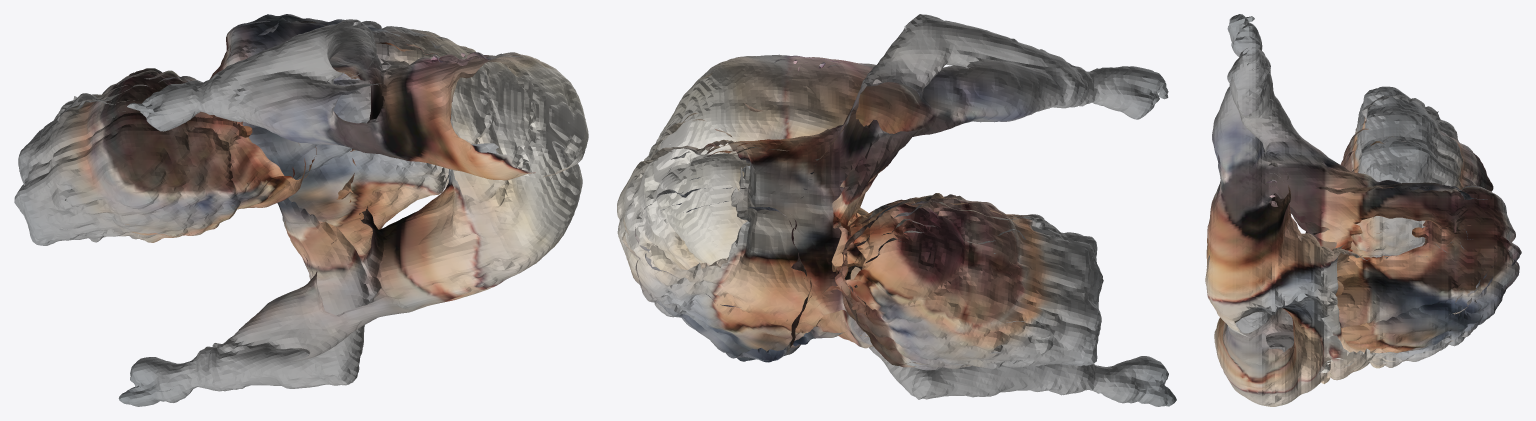
The model's file is triposr_test-2.glb.
The picture shows the model from 3 angles, left to right: view 1: azimuth 30°, elevation 25°; view 2: azimuth 150°, elevation 25°; view 3: azimuth 270°, elevation 25°; orthographic projection. The views are drawn at different scales.
Visible parts, largest first — view 1: world; view 2: world; view 3: world.
Boxes of the visible parts, left/top/right/bottom form: world: left=14, top=14, right=588, bottom=406; world: left=617, top=14, right=1176, bottom=406; world: left=1205, top=14, right=1521, bottom=406.
Size of the model in its own units: 0.9757 by 0.7139 by 0.6613.
